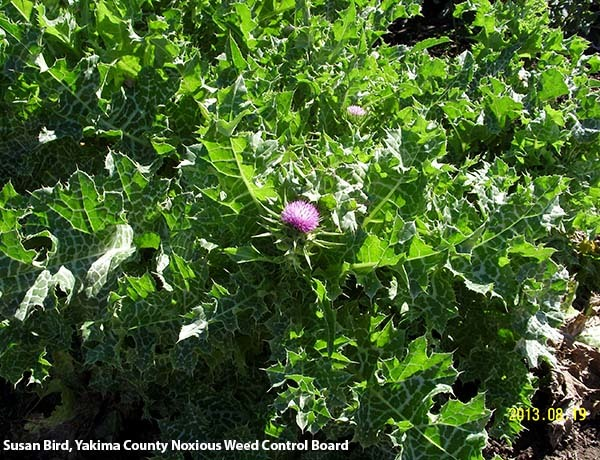thistle: (258, 193, 331, 263)
